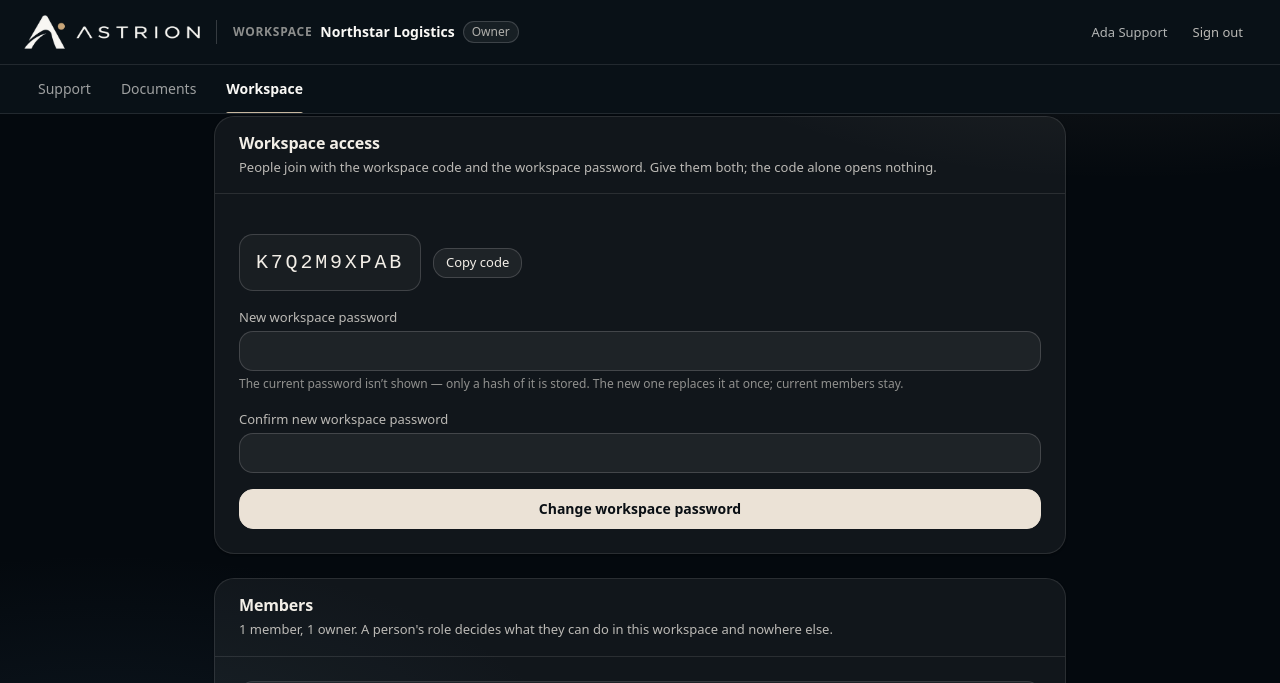
Scenario: the owner's workspace access › shows the server's refusal
This screenshot has width=1280, height=683.
(page scrolled)
Type "long-enough-here" into the password field labelled "New workspace password" at (640, 351), box [239,331,1041,371]
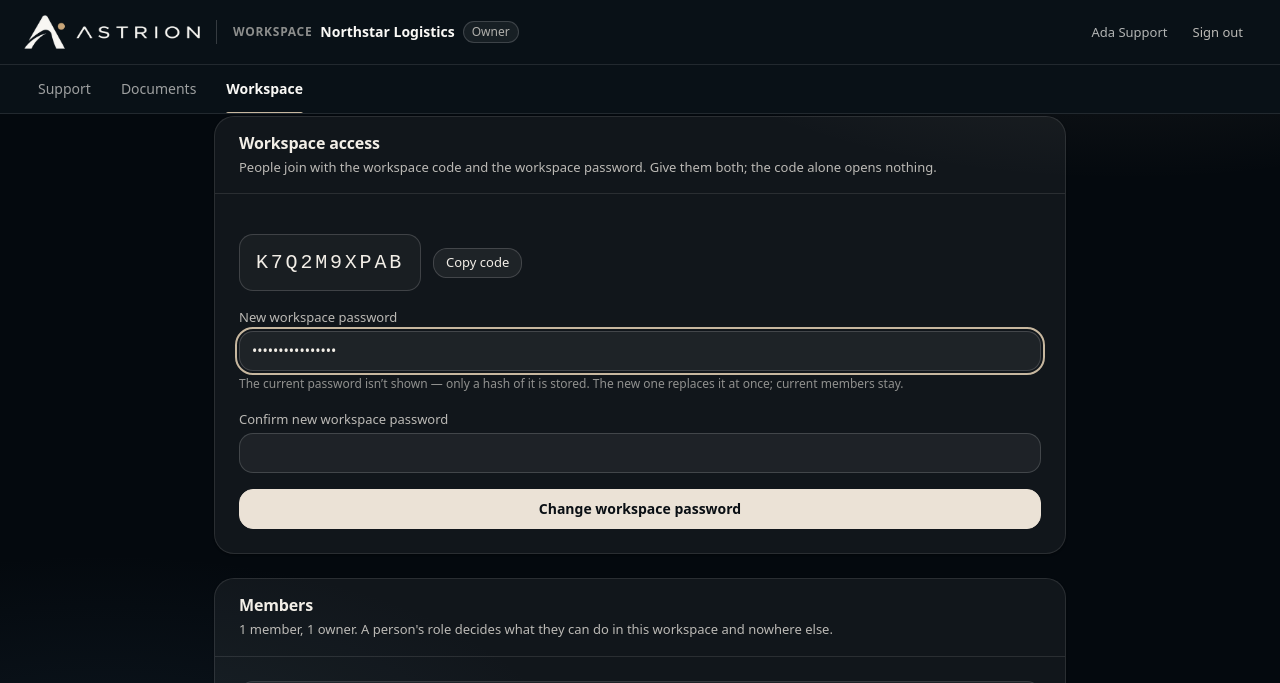
Type "long-enough-here" into the password field labelled "Confirm new workspace password" at (640, 453), box [239,433,1041,473]
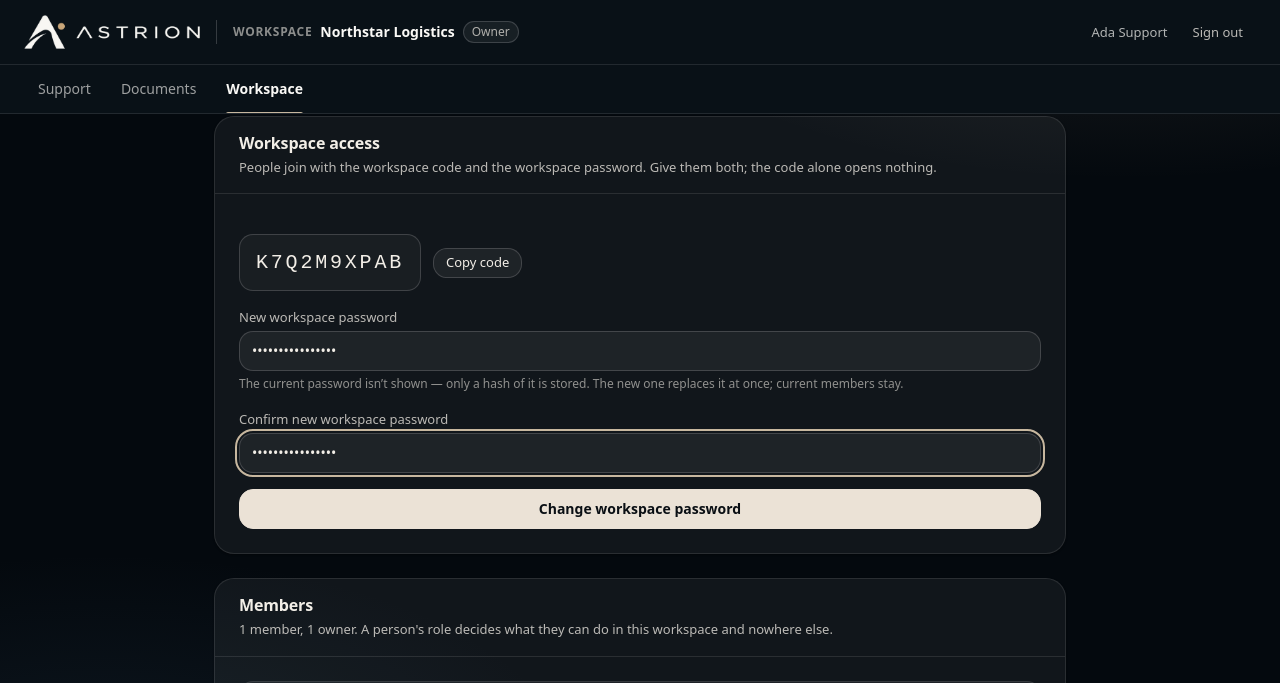
Click the button "Change workspace password" at (640, 509), box [239,489,1041,529]
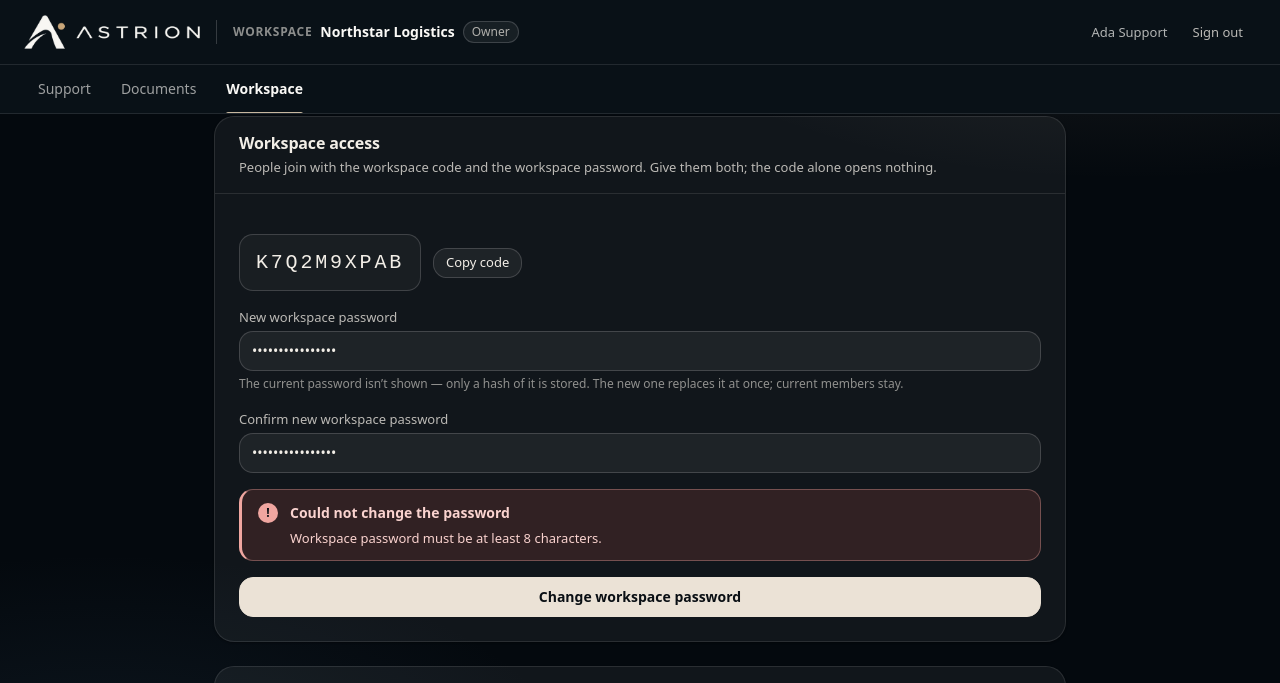
Expected: the message shows "at least 8 characters", [290,529,602,547]
